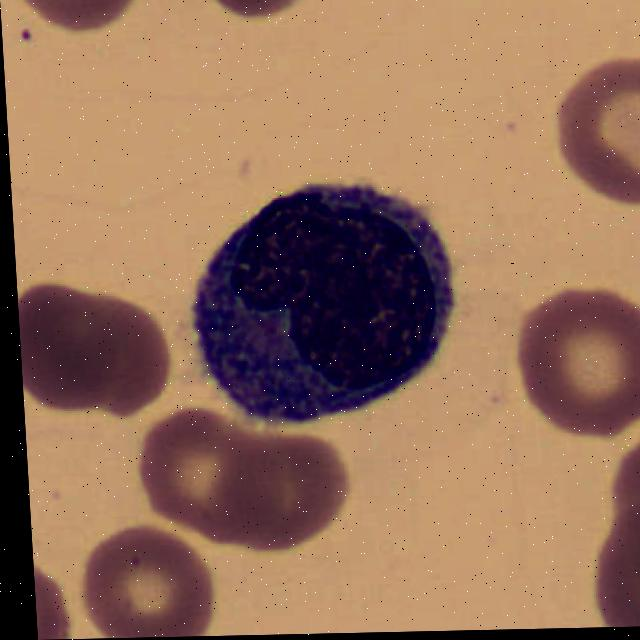monocyte: (149, 158, 485, 446)
rbc: (142, 404, 285, 525), (518, 289, 640, 428), (226, 425, 349, 552), (80, 529, 213, 639), (17, 283, 123, 406), (555, 59, 640, 201), (73, 299, 173, 414), (580, 427, 640, 528), (594, 497, 640, 626), (17, 0, 148, 29), (33, 555, 68, 640), (199, 0, 327, 16)
